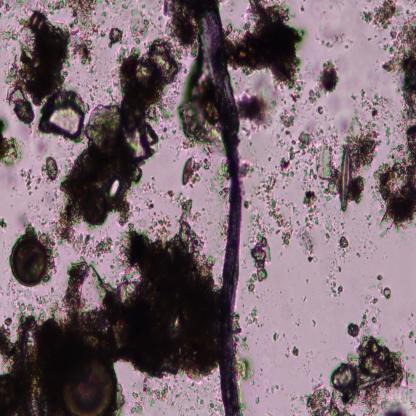Background material: (57, 39, 181, 238), (117, 195, 221, 380), (0, 268, 126, 416), (8, 10, 90, 140), (225, 0, 302, 91), (329, 336, 416, 415), (371, 122, 416, 240), (383, 17, 416, 119), (254, 169, 294, 249), (178, 78, 221, 149), (345, 117, 377, 205), (52, 218, 115, 260), (308, 124, 342, 200), (67, 1, 106, 61), (348, 91, 396, 137), (310, 0, 350, 54), (245, 213, 270, 291), (13, 192, 55, 238), (236, 86, 278, 132), (162, 1, 198, 54), (297, 185, 321, 263), (302, 375, 346, 416), (130, 379, 180, 415), (309, 58, 341, 110), (280, 129, 312, 180), (362, 0, 401, 32), (134, 181, 176, 209), (282, 81, 305, 128), (0, 113, 20, 166), (182, 156, 212, 188), (144, 207, 173, 238), (180, 378, 206, 412), (348, 308, 376, 338), (18, 166, 42, 198), (129, 7, 150, 43), (233, 353, 257, 384), (175, 193, 198, 223), (214, 158, 230, 201), (326, 259, 343, 298), (42, 155, 62, 186), (244, 304, 263, 330), (35, 0, 67, 15), (404, 307, 416, 343), (0, 24, 23, 40), (107, 25, 126, 43), (374, 284, 392, 302), (336, 233, 349, 255), (0, 213, 10, 233), (289, 340, 300, 356), (270, 330, 283, 342)
Cotton: (192, 0, 243, 414)
Diatom: (61, 353, 119, 414), (11, 234, 48, 288), (340, 146, 350, 212)
